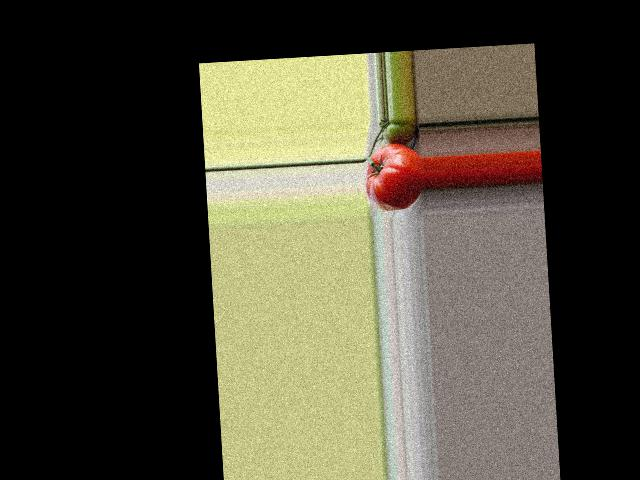tomato: (363, 142, 425, 212)
